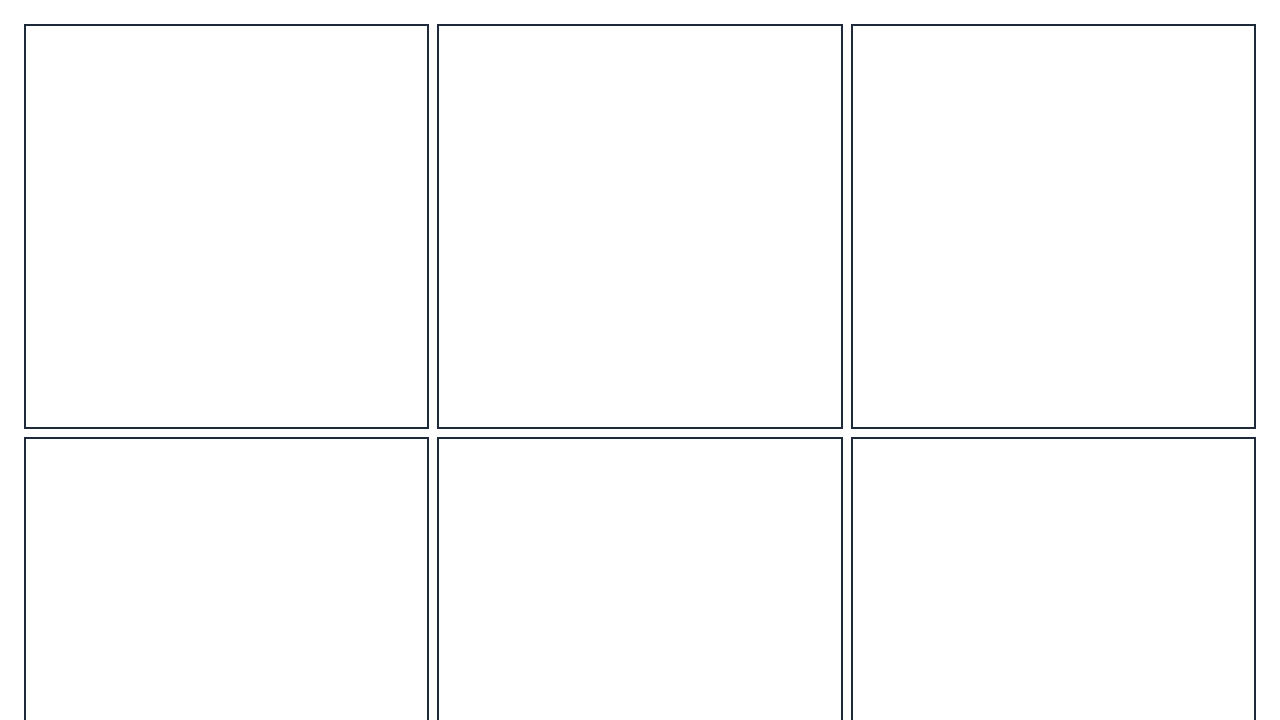
Scenario: TicTacToe component (API via MSW) › plays a simple game and updates board state
Click the button named "cell-0" at [227, 227], box [24,24,429,429]
(page scrolled)
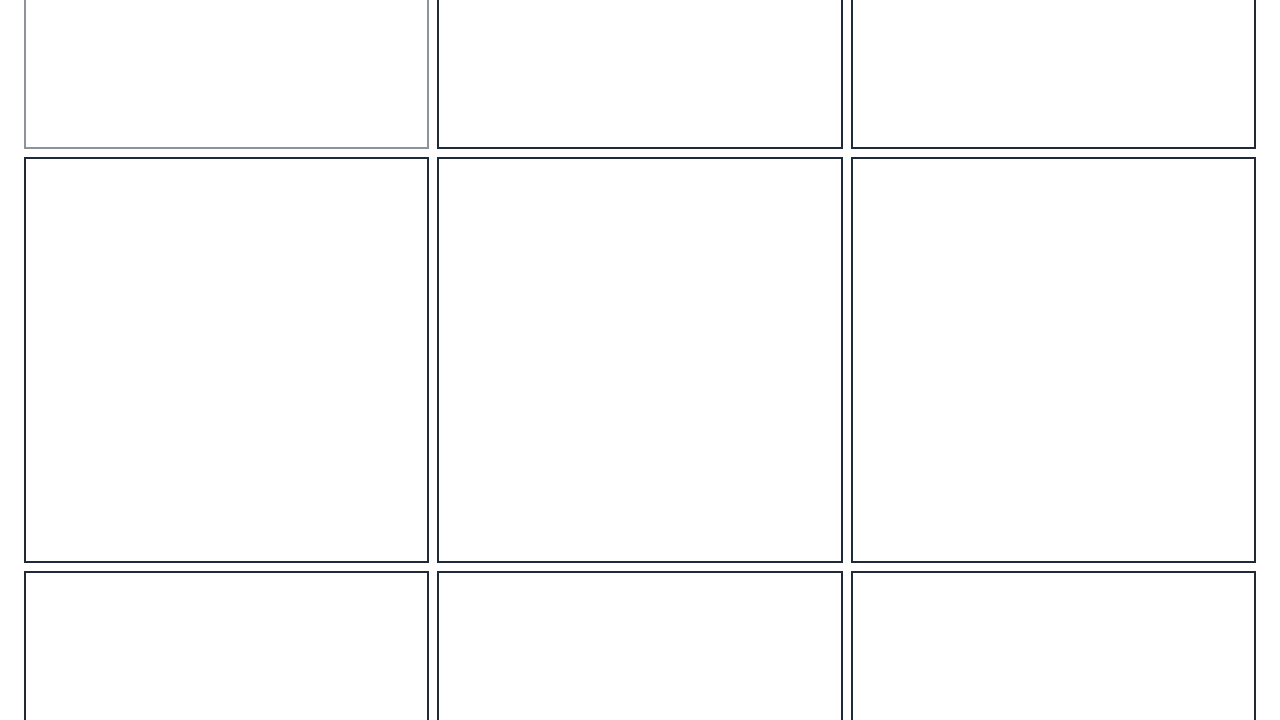
Click the button named "cell-3" at [227, 360], box [24,157,429,563]
(page scrolled)
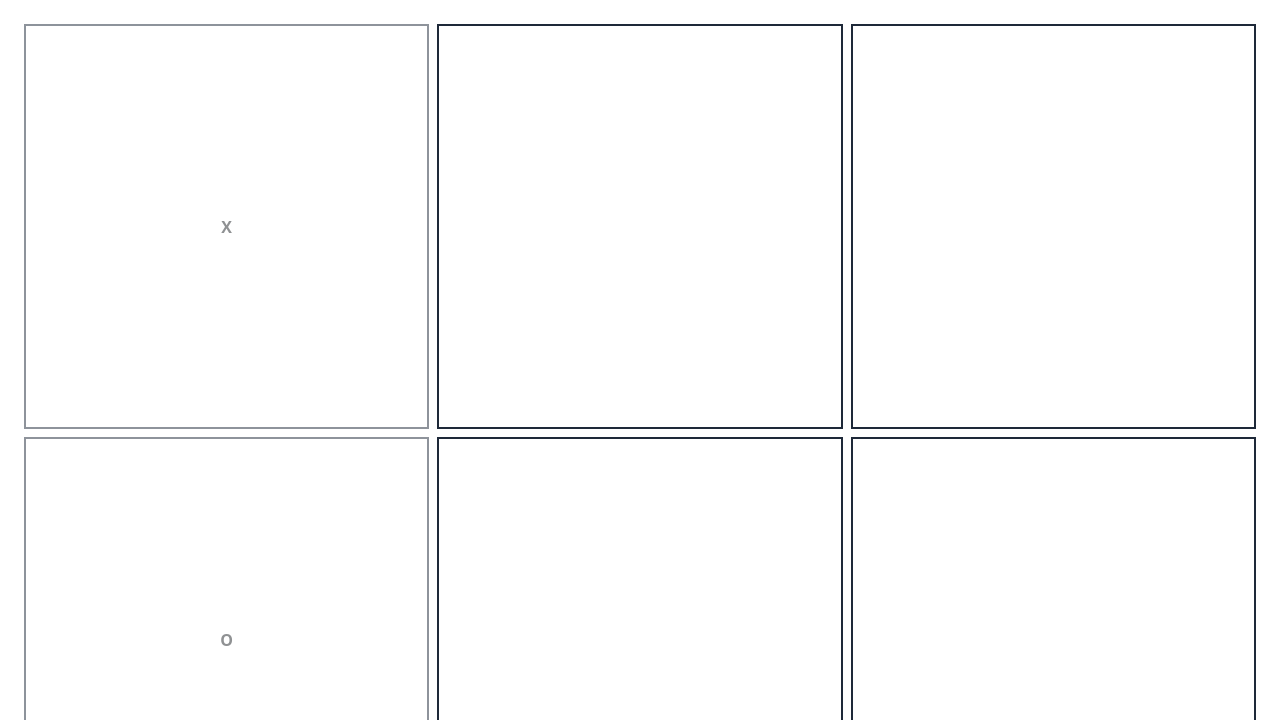
Click the button named "cell-1" at [640, 227], box [437,24,843,429]
(page scrolled)
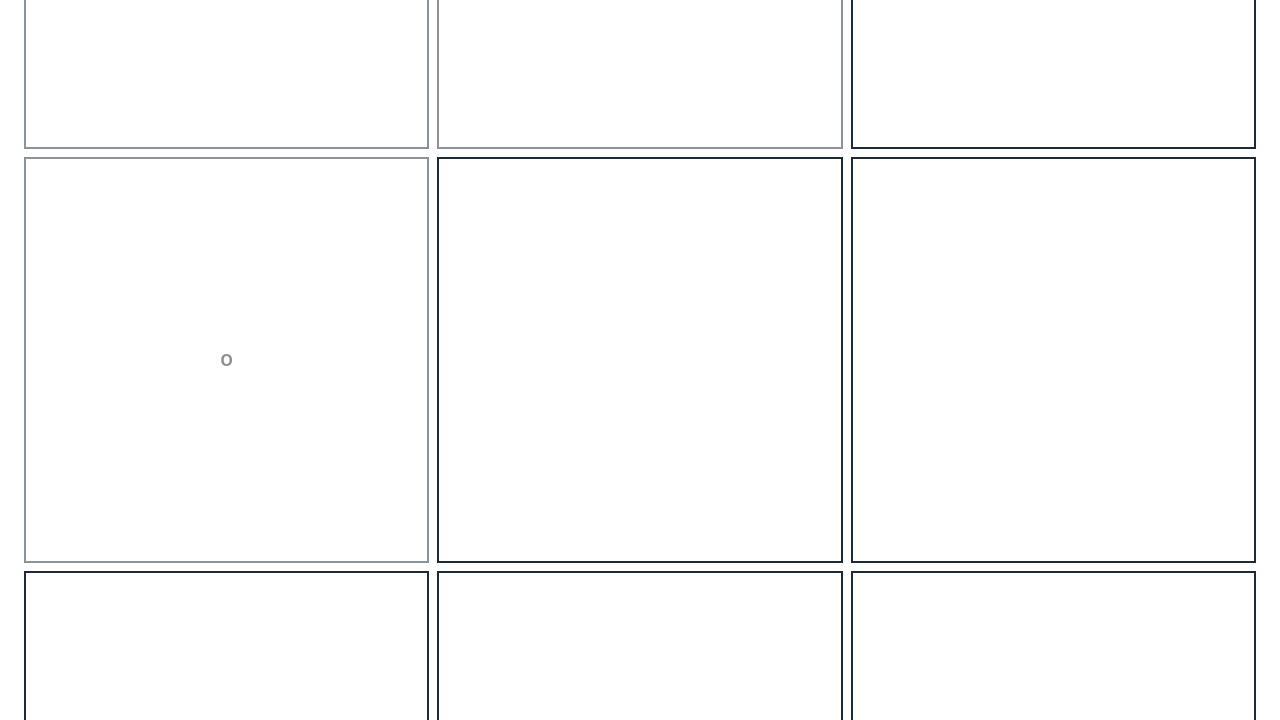
Click the button named "cell-4" at [640, 360], box [437,157,843,563]
(page scrolled)
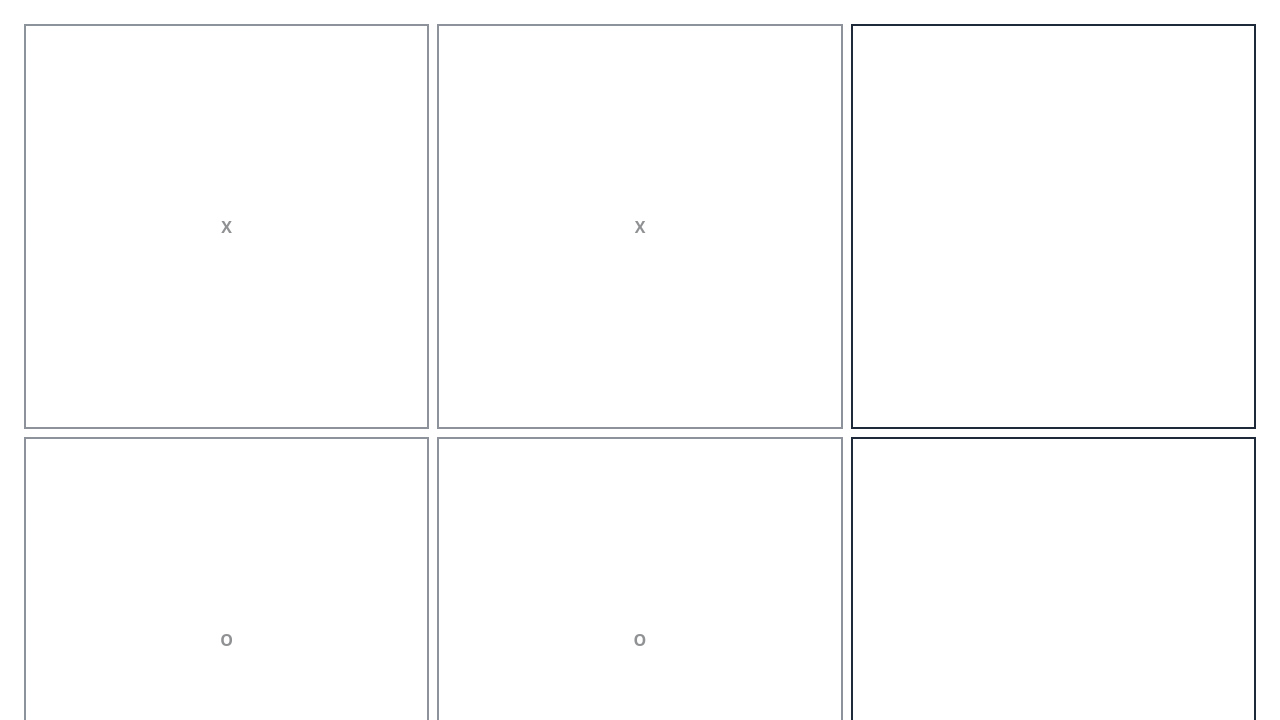
Click the button named "cell-2" at [1053, 227], box [851,24,1256,429]
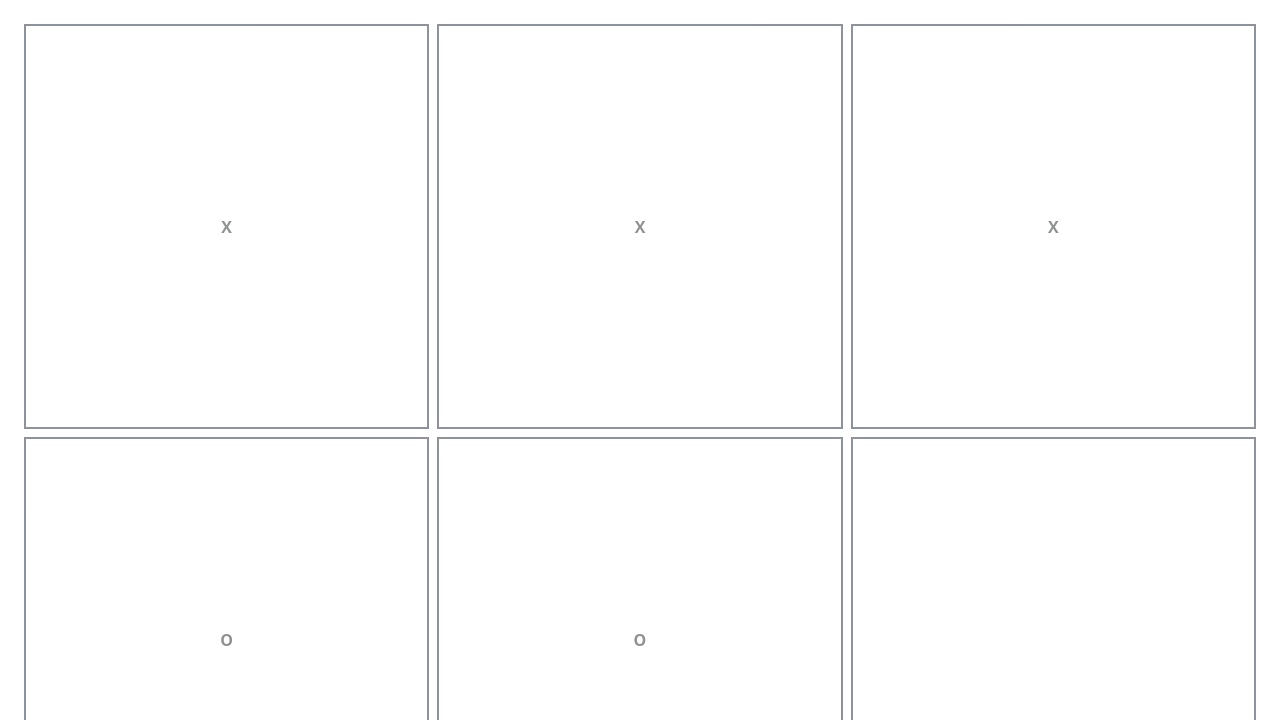
Now the button named "cell-2" reads "X", box [851,24,1256,429]
